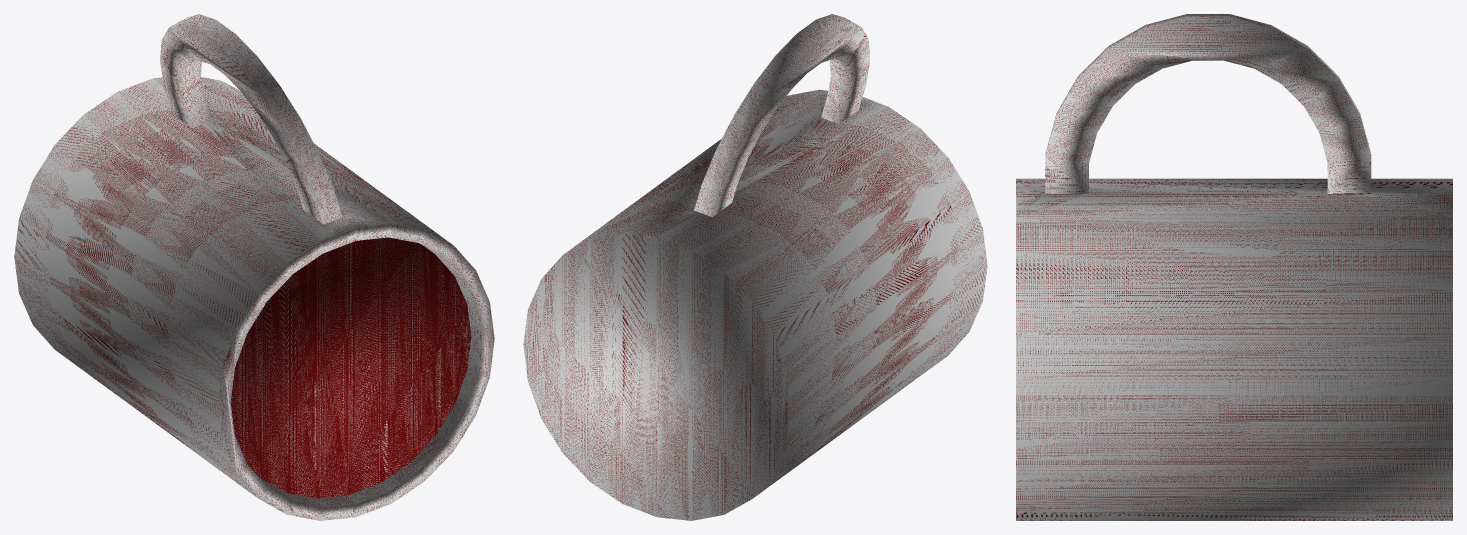
Rendered from model_scale.obj.
The picture shows the model from 3 angles, left to right: view 1: azimuth 30°, elevation 25°; view 2: azimuth 150°, elevation 25°; view 3: azimuth 270°, elevation 25°; orthographic projection. The views are drawn at different scales.
Parts seen in each view (by area): view 1: mesh1_mesh1-geometry; view 2: mesh1_mesh1-geometry; view 3: mesh1_mesh1-geometry.
Boxes of the visible parts, x1,y1,x2,y2 form: mesh1_mesh1-geometry: (14, 14, 494, 520); mesh1_mesh1-geometry: (523, 14, 987, 520); mesh1_mesh1-geometry: (1016, 14, 1452, 520).
Bounding box in the file's own units: 0.0778 × 0.1166 × 0.0989.
